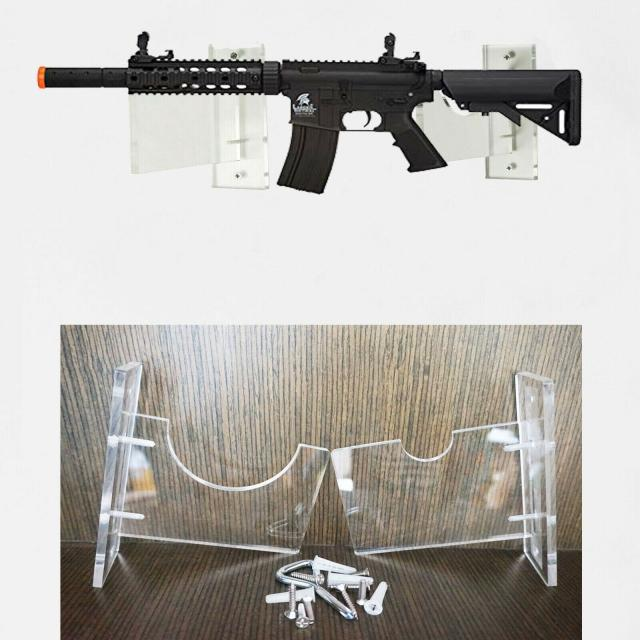Rifle: (36, 38, 583, 195)
